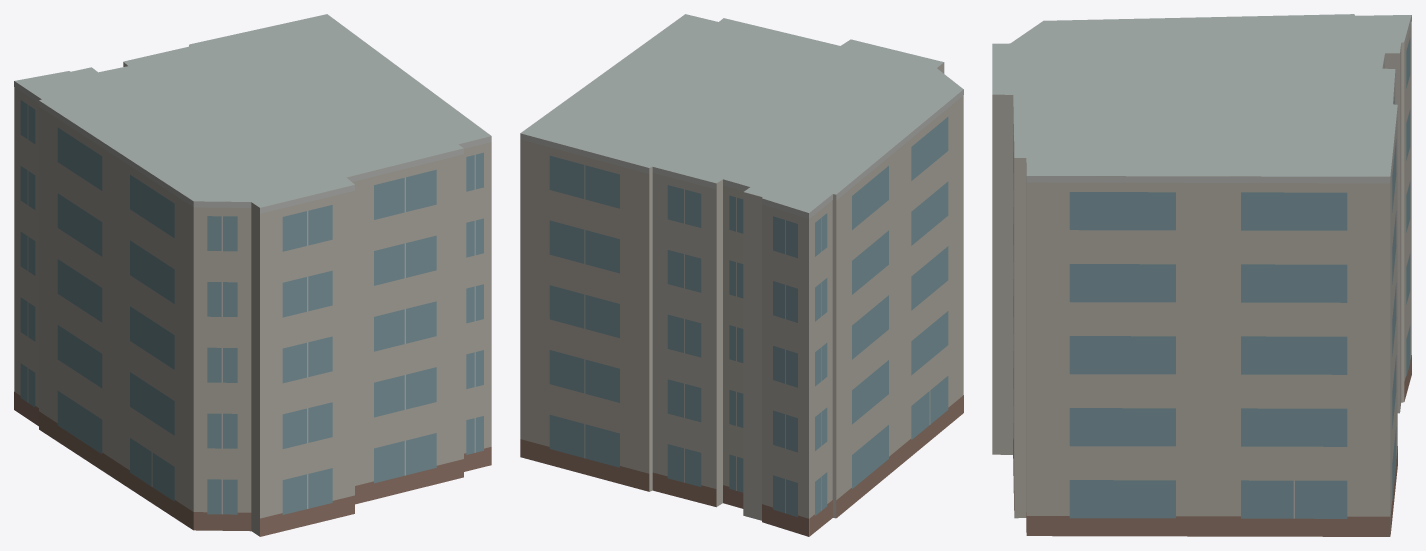
The model's file is survey-upis-33017116.glb.
3 views of the same model, side by side, from view 1: azimuth 30°, elevation 25°; view 2: azimuth 150°, elevation 25°; view 3: azimuth 270°, elevation 25° (orthographic). The views are drawn at different scales.
Visible parts, largest first — view 1: survey-upis-33017116.tmp; view 2: survey-upis-33017116.tmp; view 3: survey-upis-33017116.tmp.
Boxes of the visible parts, <box> form: survey-upis-33017116.tmp: <box>14,14,491,536</box>; survey-upis-33017116.tmp: <box>520,14,963,536</box>; survey-upis-33017116.tmp: <box>992,14,1411,536</box>.
Bounding box in the file's own units: 13 × 13.4 × 14.16.
